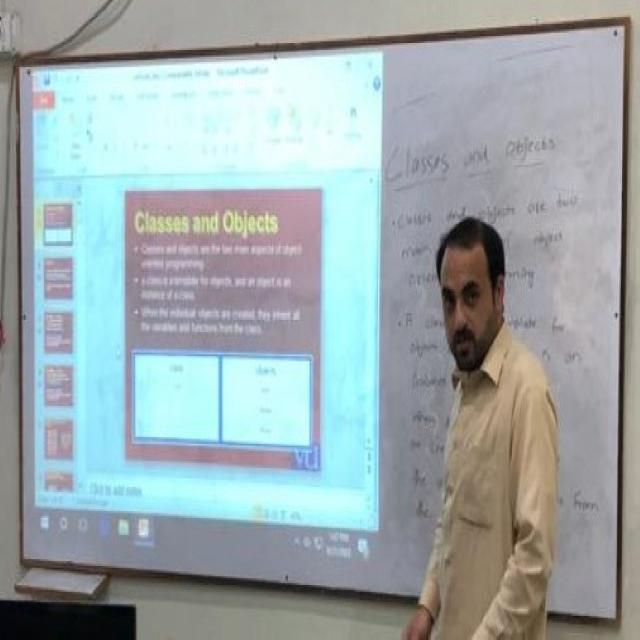Instructor: (430, 211, 560, 639)
Slide: (34, 52, 382, 570)
White-board: (16, 25, 626, 622)
